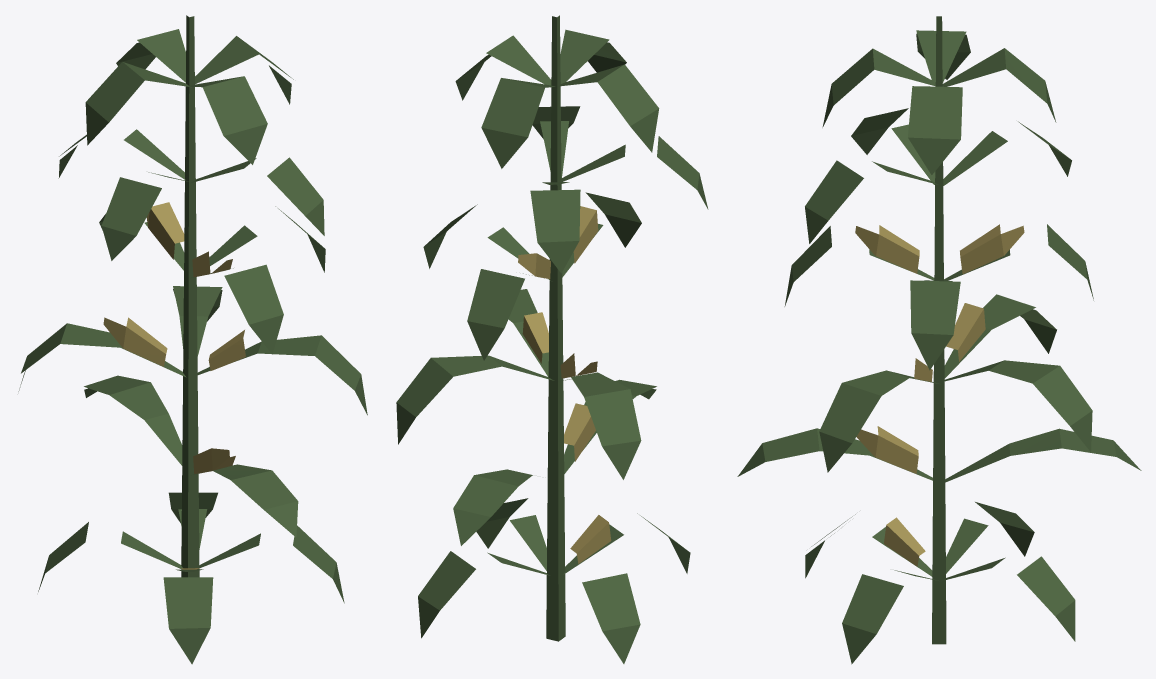
File: gewas_mais.glb
3 views of the same model, side by side, from view 1: azimuth 30°, elevation 25°; view 2: azimuth 150°, elevation 25°; view 3: azimuth 270°, elevation 25° (orthographic).
Size of the model in its own units: 0.8819 by 2 by 1.17.
